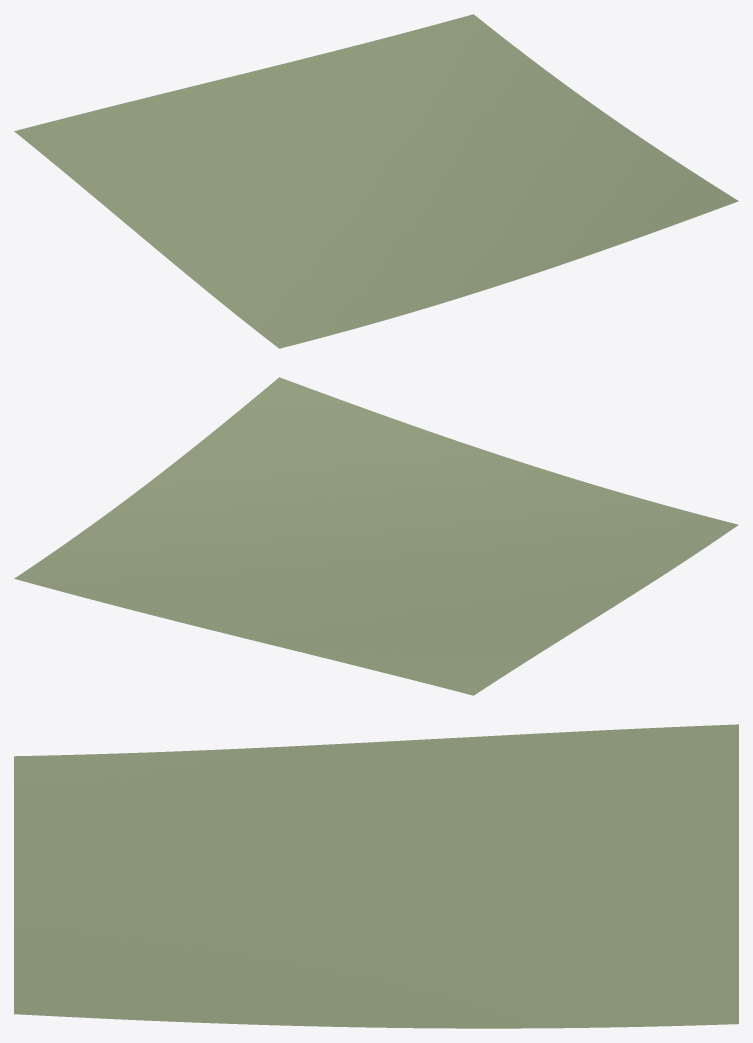
Rendered from alpine-3-15.glb.
3 views of the same model, one above another, from view 1: azimuth 30°, elevation 25°; view 2: azimuth 150°, elevation 25°; view 3: azimuth 270°, elevation 25° (orthographic). The views are drawn at different scales.
Visible parts, largest first — view 1: alpine-3-15; view 2: alpine-3-15; view 3: alpine-3-15.
Part boxes in pixels (box(x1,y1,x2,y2)): alpine-3-15: box(14, 14, 738, 348); alpine-3-15: box(14, 377, 738, 695); alpine-3-15: box(14, 724, 738, 1028).
Size of the model in its own units: 256 by 18.85 by 256.
